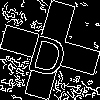D: (25, 25, 73, 78)
